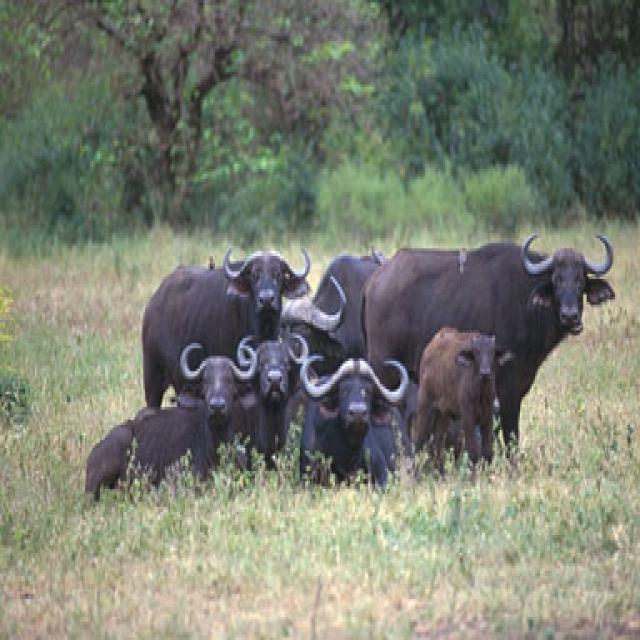buffalo: (365, 234, 623, 480), (139, 250, 309, 417), (180, 338, 312, 500), (408, 329, 517, 495), (295, 352, 408, 501), (84, 403, 238, 509)
